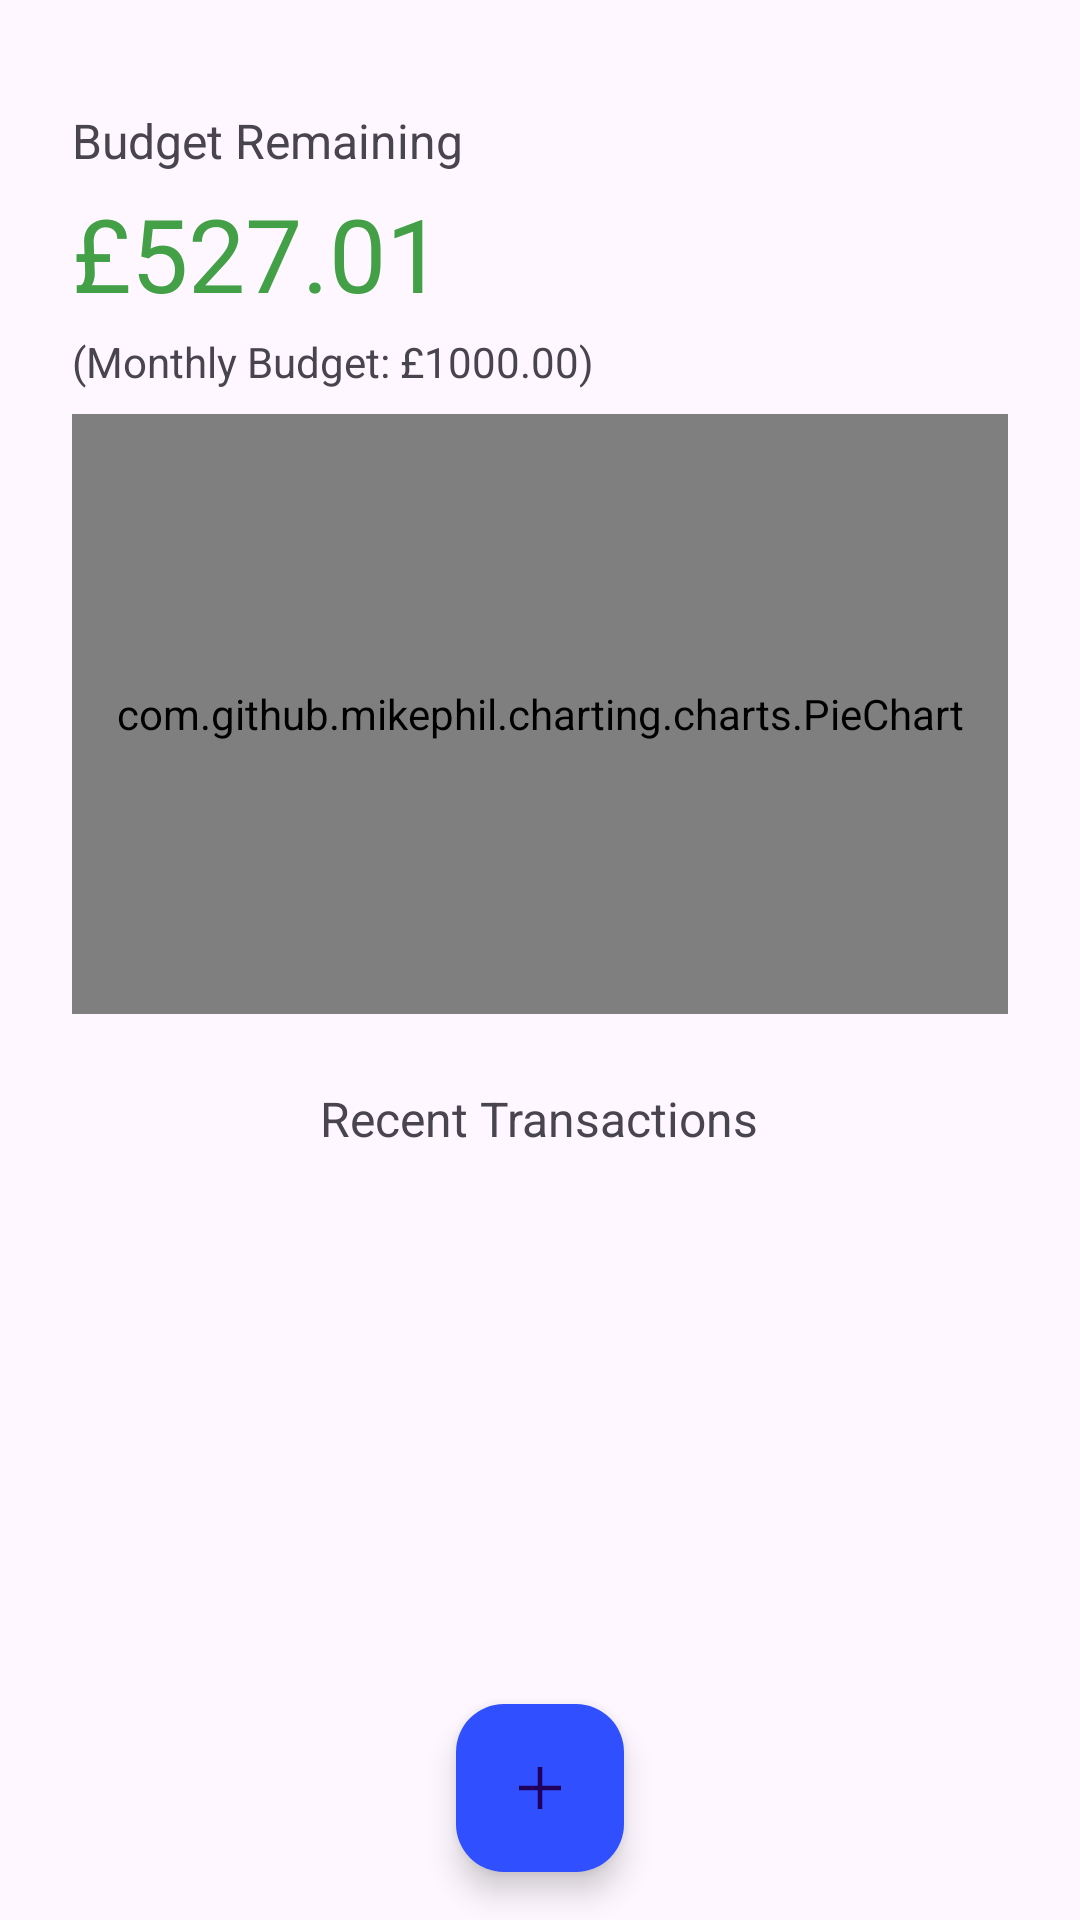

Named icons in this screenshot (1080w x 1920h) and their centers, (x,y):
Add Transaction: (540,1788)
